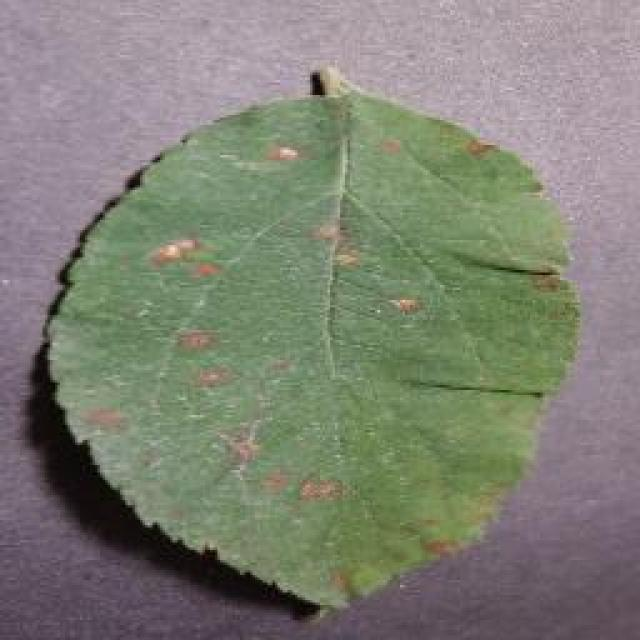apple rust disease: (40, 63, 582, 615)
